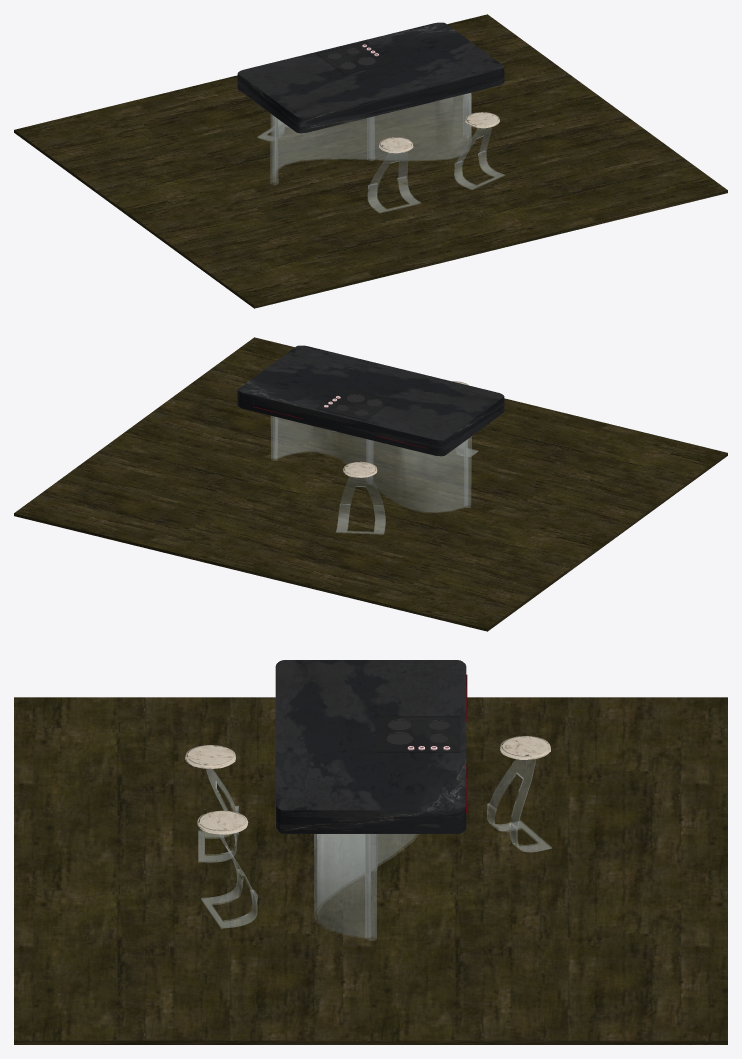
The model's file is island.glb.
3 views of the same model, one above another, from view 1: azimuth 30°, elevation 25°; view 2: azimuth 150°, elevation 25°; view 3: azimuth 270°, elevation 25° (orthographic). The views are drawn at different scales.
Parts seen in each view (by area): view 1: Object_4; view 2: Object_4; view 3: Object_4.
Part boxes in pixels (x1,y1,x2,y2): Object_4: (14, 14, 727, 308); Object_4: (14, 337, 727, 631); Object_4: (14, 660, 727, 1044).
Size of the model in its own units: 0.2349 by 0.045 by 0.2065.
9 materials, 3 textured.
